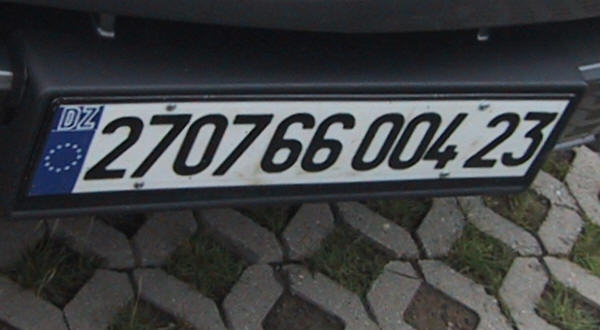number_plate: (15, 91, 575, 214)
